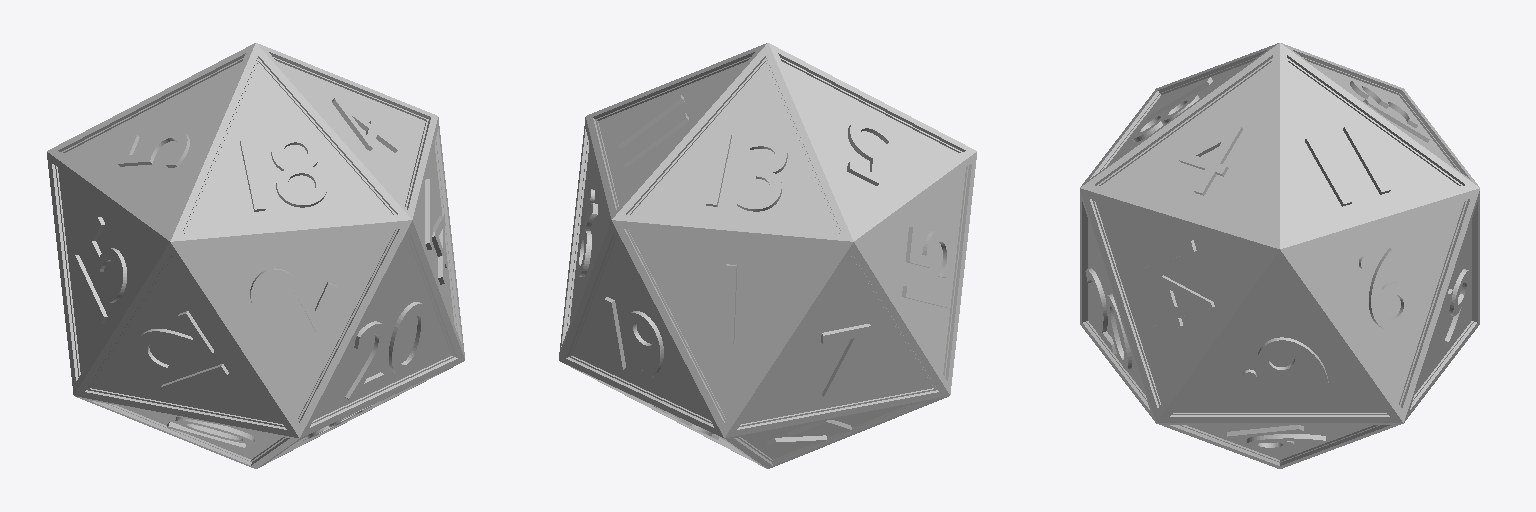
The model's file is 20dice.obj.
The picture shows the model from 3 angles: view 1: azimuth 30°, elevation 25°; view 2: azimuth 150°, elevation 25°; view 3: azimuth 270°, elevation 25°; orthographic projection.
Parts seen in each view (by area): view 1: 棱角球, 18, 20, 12, 15, 2, 5, 10, 14, 4; view 2: 棱角球, 13, 19, 15, 11, 5, 7, 1, 17, 9; view 3: 棱角球, 14, 9, 6, 11, 4, 20, 16, 19, 18, 13.
Part boxes in pixels (left/top/right/bottom): 棱角球: left=47, top=43, right=464, bottom=468; 18: left=240, top=133, right=327, bottom=211; 20: left=345, top=302, right=428, bottom=399; 12: left=136, top=311, right=228, bottom=395; 15: left=71, top=217, right=126, bottom=323; 2: left=250, top=268, right=337, bottom=332; 5: left=118, top=129, right=189, bottom=167; 10: left=167, top=417, right=254, bottom=448; 14: left=425, top=179, right=446, bottom=284; 4: left=332, top=97, right=398, bottom=152; 棱角球: left=559, top=43, right=976, bottom=468; 13: left=706, top=133, right=787, bottom=211; 19: left=604, top=297, right=663, bottom=380; 15: left=902, top=227, right=952, bottom=307; 11: left=617, top=94, right=688, bottom=167; 5: left=847, top=119, right=889, bottom=185; 7: left=821, top=324, right=870, bottom=398; 1: left=722, top=264, right=737, bottom=343; 17: left=767, top=420, right=851, bottom=445; 9: left=577, top=189, right=597, bottom=276; 棱角球: left=1080, top=43, right=1479, bottom=468; 14: left=1130, top=240, right=1214, bottom=328; 9: left=1359, top=248, right=1412, bottom=329; 6: left=1243, top=337, right=1328, bottom=389; 11: left=1305, top=124, right=1390, bottom=206; 4: left=1179, top=126, right=1242, bottom=195; 20: left=1085, top=268, right=1131, bottom=370; 16: left=1227, top=425, right=1325, bottom=449; 19: left=1431, top=269, right=1470, bottom=363; 18: left=1131, top=77, right=1212, bottom=142; 13: left=1350, top=79, right=1429, bottom=142.
Size of the model in its own units: 1.79 by 2 by 1.7.